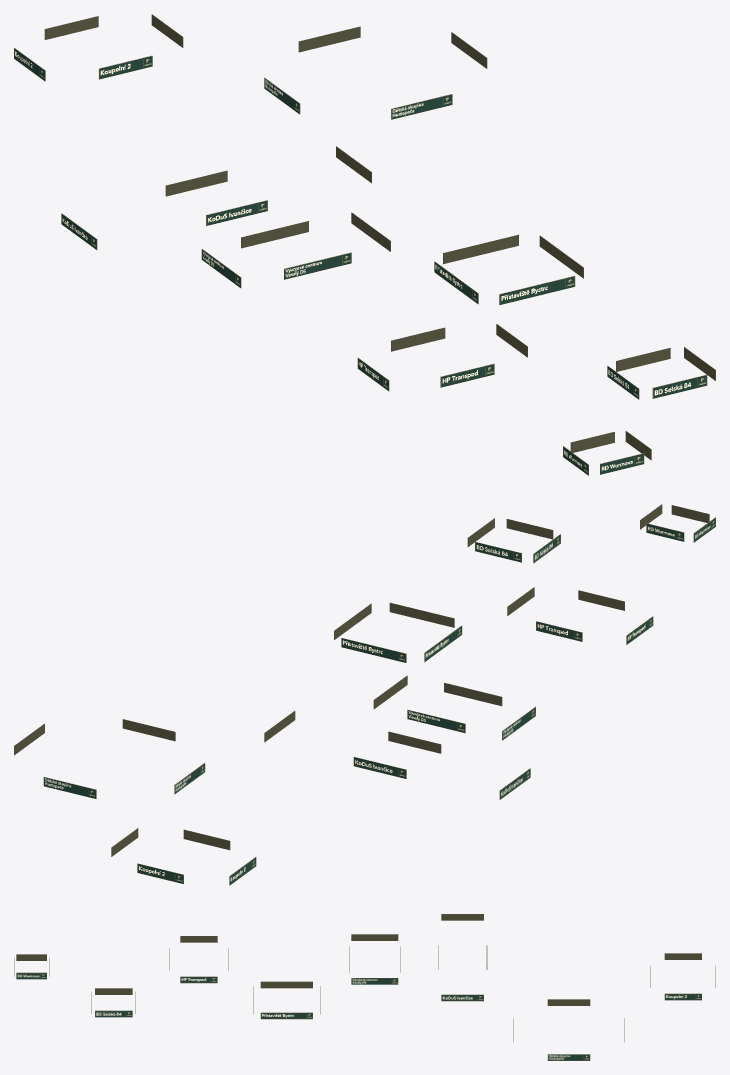
Rendered from nameplates.glb.
3 renders of one model, top to bottom at view 1: azimuth 30°, elevation 25°; view 2: azimuth 150°, elevation 25°; view 3: azimuth 270°, elevation 25°, orthographic. The views are drawn at different scales.
Parts seen in each view (by area): view 1: Nameplate_bystrc, Nameplate_nebovidy, Nameplate_hustopece, Nameplate_ivancice, Nameplate_selska84, Nameplate_transped, Nameplate_koupelni, Nameplate_wurmova; view 2: Nameplate_bystrc, Nameplate_nebovidy, Nameplate_ivancice, Nameplate_hustopece, Nameplate_koupelni, Nameplate_selska84, Nameplate_transped, Nameplate_wurmova; view 3: Nameplate_bystrc, Nameplate_nebovidy, Nameplate_ivancice, Nameplate_hustopece, Nameplate_transped, Nameplate_selska84, Nameplate_koupelni, Nameplate_wurmova.
Boxes of the visible parts, x1=… form: Nameplate_bystrc: x1=434, y1=234, x2=583, y2=305; Nameplate_nebovidy: x1=201, y1=212, x2=390, y2=288; Nameplate_hustopece: x1=264, y1=26, x2=487, y2=119; Nameplate_ivancice: x1=61, y1=146, x2=371, y2=249; Nameplate_selska84: x1=607, y1=347, x2=715, y2=399; Nameplate_transped: x1=357, y1=324, x2=527, y2=391; Nameplate_koupelni: x1=14, y1=14, x2=183, y2=81; Nameplate_wurmova: x1=563, y1=431, x2=651, y2=475; Nameplate_bystrc: x1=334, y1=602, x2=462, y2=662; Nameplate_nebovidy: x1=373, y1=675, x2=535, y2=740; Nameplate_ivancice: x1=264, y1=711, x2=530, y2=799; Nameplate_hustopece: x1=14, y1=719, x2=205, y2=798; Nameplate_koupelni: x1=111, y1=828, x2=256, y2=885; Nameplate_selska84: x1=467, y1=518, x2=560, y2=563; Nameplate_transped: x1=507, y1=587, x2=653, y2=644; Nameplate_wurmova: x1=640, y1=504, x2=715, y2=542; Nameplate_bystrc: x1=253, y1=981, x2=320, y2=1019; Nameplate_nebovidy: x1=349, y1=934, x2=400, y2=984; Nameplate_ivancice: x1=438, y1=914, x2=487, y2=1001; Nameplate_hustopece: x1=513, y1=999, x2=624, y2=1060; Nameplate_transped: x1=169, y1=936, x2=228, y2=983; Nameplate_selska84: x1=91, y1=988, x2=135, y2=1017; Nameplate_koupelni: x1=650, y1=953, x2=715, y2=1000; Nameplate_wurmova: x1=14, y1=954, x2=49, y2=979.
Size of the model in its own units: 11.32 by 0.245 by 23.94.
1 material, 1 textured.
